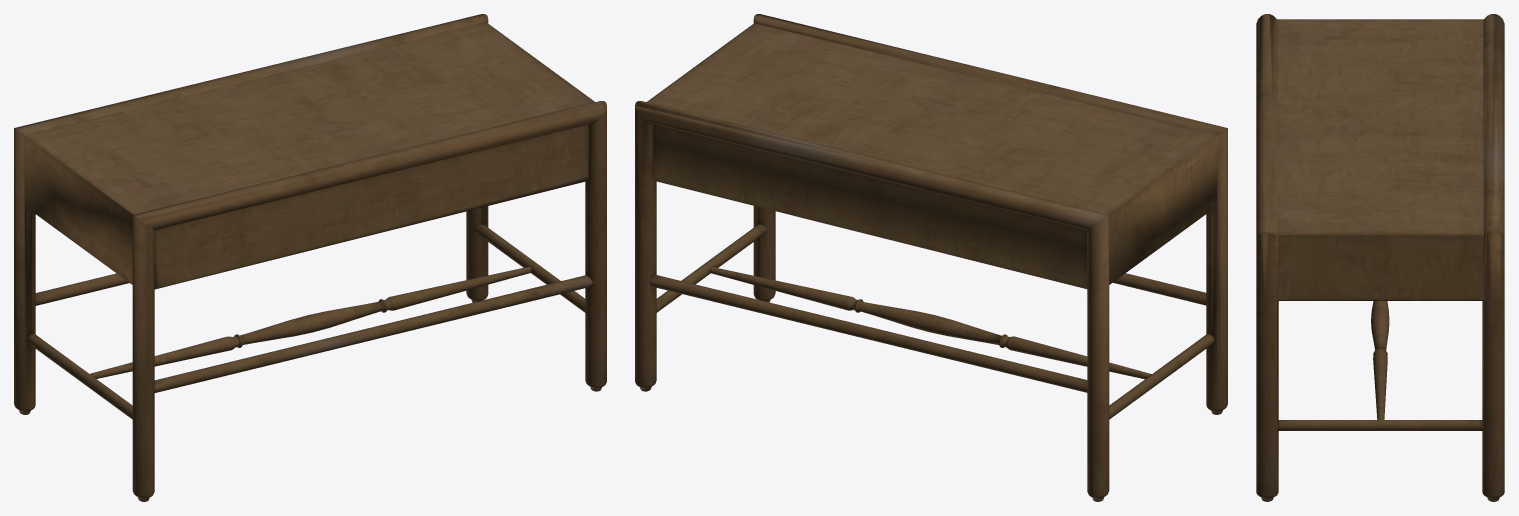
The model's file is small_wooden_table_01.glb.
3 renders of one model, left to right at view 1: azimuth 30°, elevation 25°; view 2: azimuth 150°, elevation 25°; view 3: azimuth 270°, elevation 25°, orthographic. The views are drawn at different scales.
Visible parts, largest first — view 1: small_wooden_table_01; view 2: small_wooden_table_01; view 3: small_wooden_table_01.
Boxes of the visible parts, x1=… form: small_wooden_table_01: x1=14, y1=14, x2=606, y2=501; small_wooden_table_01: x1=635, y1=14, x2=1227, y2=501; small_wooden_table_01: x1=1256, y1=14, x2=1504, y2=501.
Size of the model in its own units: 0.9162 by 0.5331 by 0.4399.
1 material, 1 textured.
